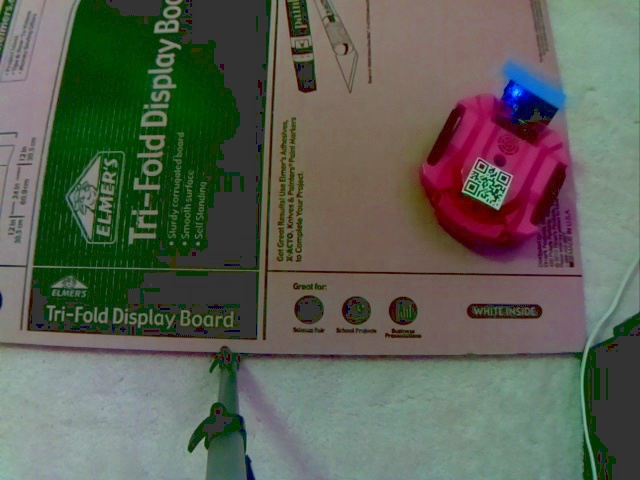board: (489, 58, 567, 131)
chassis: (416, 59, 572, 250)
